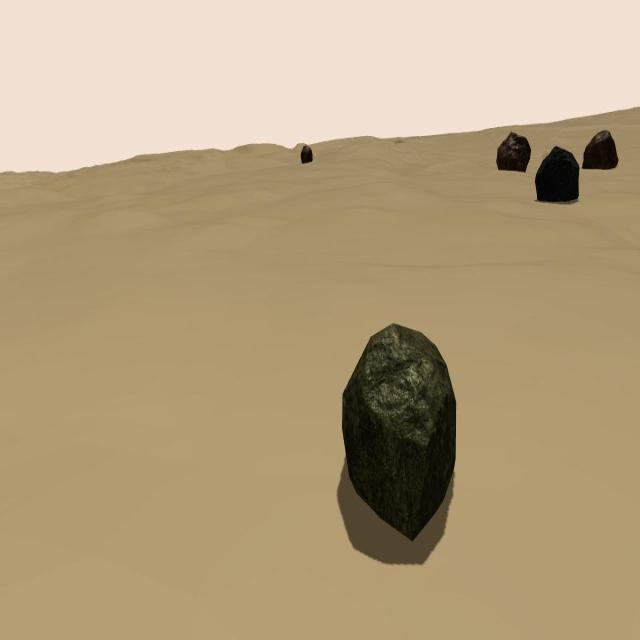rock: (343, 324, 456, 542), (536, 147, 580, 203), (582, 130, 619, 171), (496, 132, 531, 172), (299, 144, 313, 165)
